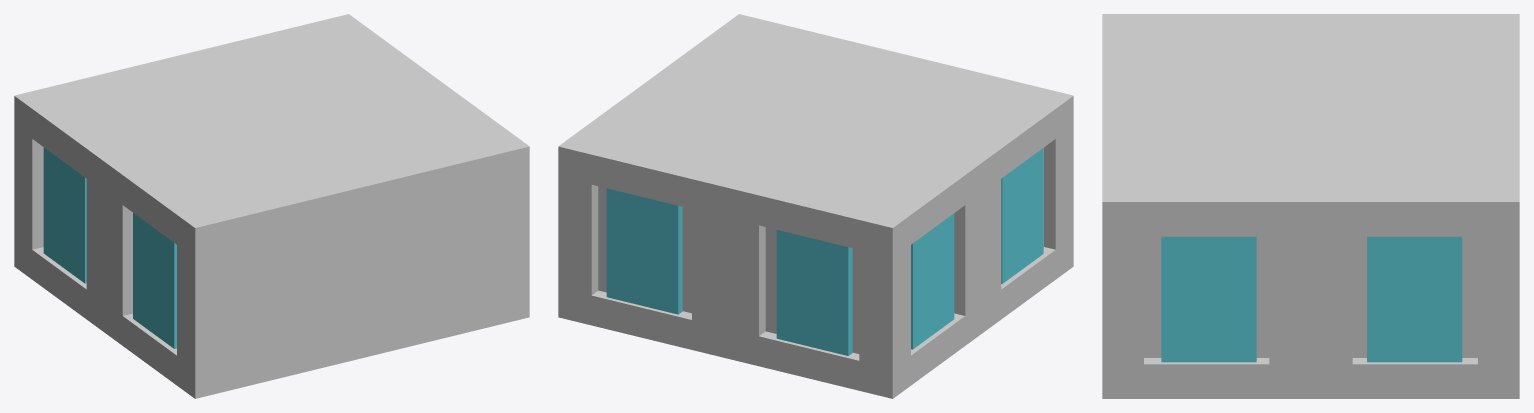
The model's file is SmallHouseBlock.fbx.
3 renders of one model, left to right at view 1: azimuth 30°, elevation 25°; view 2: azimuth 150°, elevation 25°; view 3: azimuth 270°, elevation 25°, orthographic. The views are drawn at different scales.
Visible parts, largest first — view 1: pCube27, pCube75; view 2: pCube27, pCube75; view 3: pCube27, pCube75.
Part boxes in pixels (bbox=[...]): pCube27: bbox=[14, 14, 529, 398]; pCube75: bbox=[43, 147, 176, 348]; pCube27: bbox=[558, 14, 1073, 398]; pCube75: bbox=[606, 148, 1043, 355]; pCube27: bbox=[1102, 14, 1519, 398]; pCube75: bbox=[1161, 236, 1462, 362].
Bounding box in the file's own units: 10.26 × 5 × 9.61.
